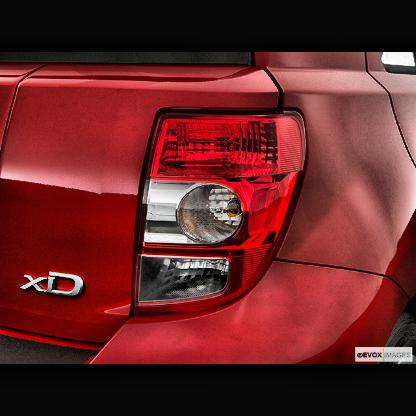Scion xD Hatchback 2012: (2, 53, 416, 361)
